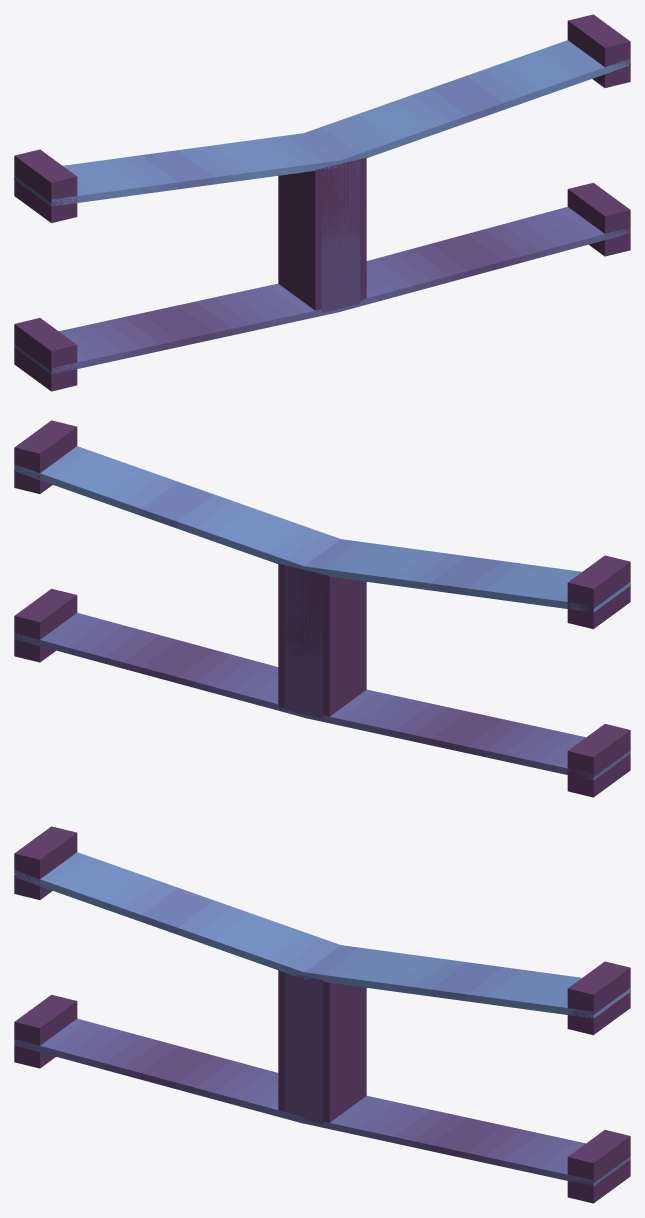
Rendered from exp_02_d_solid.glb.
3 views of the same model, one above another, from view 1: azimuth 30°, elevation 25°; view 2: azimuth 150°, elevation 25°; view 3: azimuth 330°, elevation 25° (orthographic).
Visible parts, largest first — view 1: geometry_0; view 2: geometry_0; view 3: geometry_0.
Boxes of the visible parts, bbox=[...] form: geometry_0: bbox=[14, 14, 630, 391]; geometry_0: bbox=[14, 420, 630, 797]; geometry_0: bbox=[14, 826, 630, 1203].
Bounding box in the file's own units: 0.0901 × 0.031 × 0.01.
